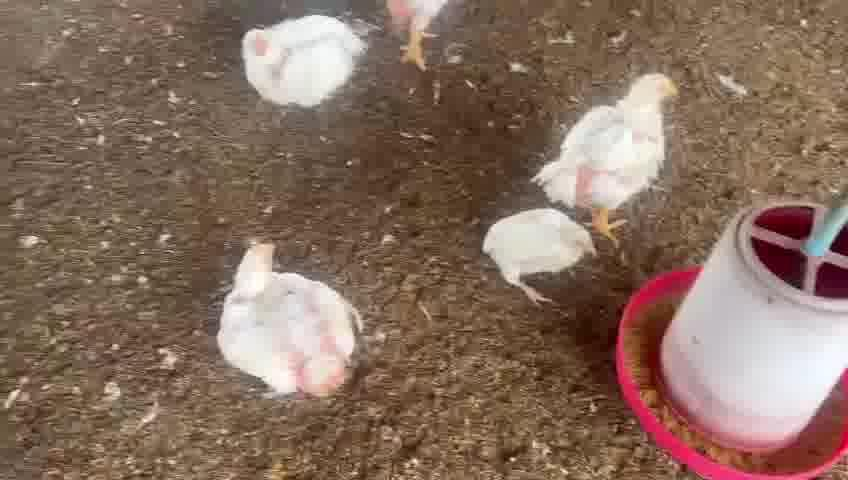AbNormal: (212, 238, 355, 404), (486, 209, 595, 304), (243, 23, 363, 103)
Normal: (553, 72, 680, 238)
